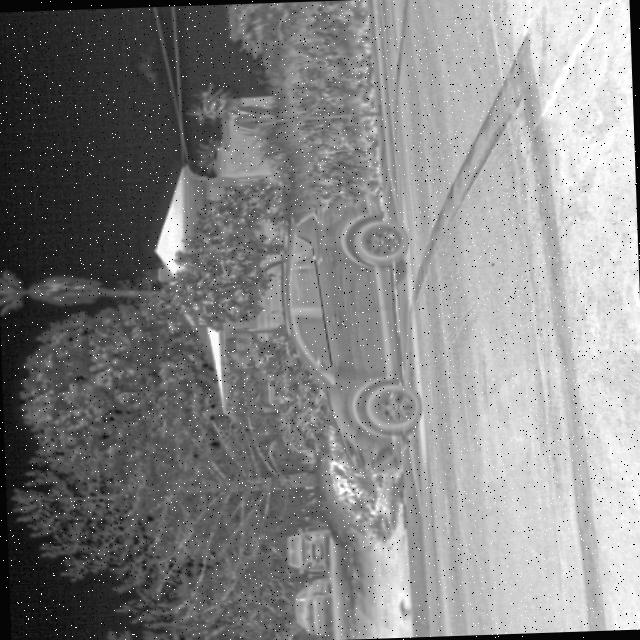Vehicle: (275, 182, 425, 481), (290, 576, 336, 638), (282, 524, 332, 576)
